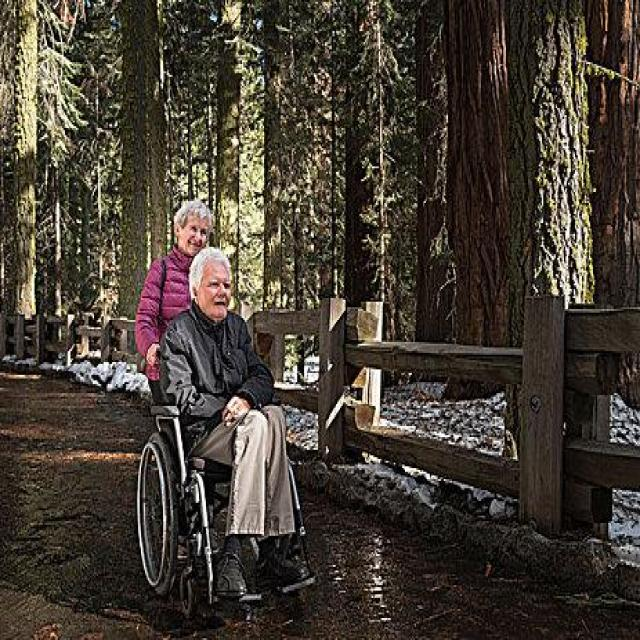wheelchairs: (130, 342, 328, 620)
